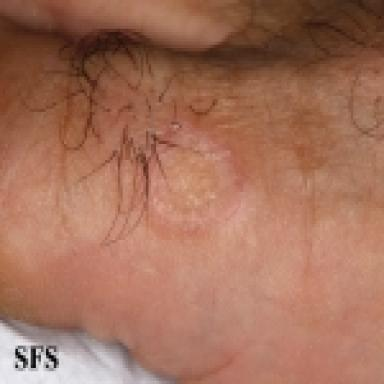Porokeratosis: (142, 124, 241, 237)
